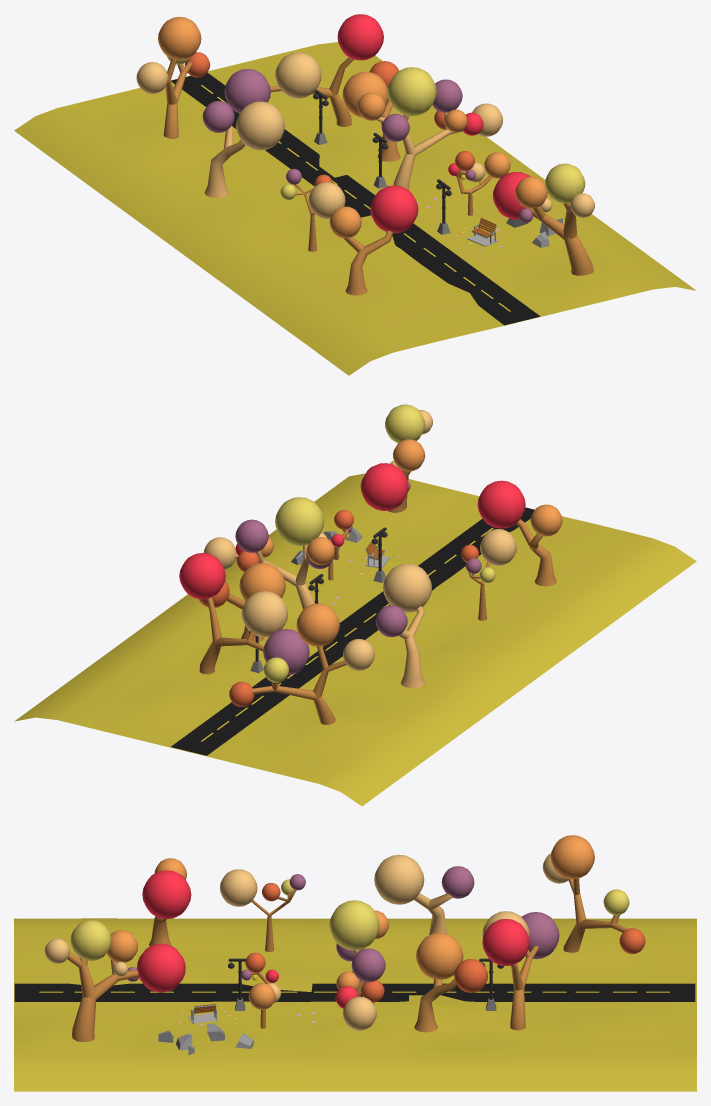
The picture shows the model from 3 angles, top to bottom: view 1: azimuth 30°, elevation 25°; view 2: azimuth 150°, elevation 25°; view 3: azimuth 270°, elevation 25°; orthographic projection.
Visible parts, largest first — view 1: Plane, tree5R, tree4L, tree3L, tree1L, tree2R, tree4R; view 2: Plane, tree4L, tree4R, tree3L, tree1L, tree2R; view 3: Plane, tree5R, tree4L, tree4R, tree3R, tree3L, tree2L, tree1L.
Part boxes in pixels (x1,y1,x2,y2): Plane: (14,14,696,375); tree5R: (526,203,593,275); tree4L: (163,58,192,138); tree3L: (204,125,245,197); tree1L: (343,230,392,295); tree2R: (376,112,462,189); tree4R: (270,57,353,126); Plane: (14,404,696,806); tree4L: (251,646,346,724); tree4R: (199,597,263,674); tree3L: (398,606,424,688); tree1L: (516,519,556,586); tree2R: (235,544,314,609); Plane: (14,835,696,1091); tree5R: (67,952,138,1041); tree4L: (563,878,627,952); tree4R: (510,946,538,1030); tree3R: (414,979,457,1032); tree3L: (414,893,452,934); tree2L: (251,889,296,951); tree1L: (149,916,171,945).
Size of the model in its own units: 44.18 by 15.88 by 73.61.
